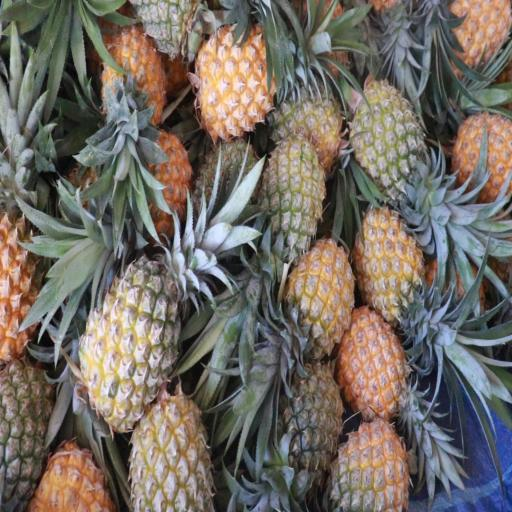------------------------------: (80, 256, 177, 421), (131, 395, 212, 512), (272, 76, 344, 163)
Pineapple - v8 v1: (194, 29, 280, 134), (0, 198, 54, 353), (356, 206, 429, 320), (340, 309, 410, 421), (286, 243, 351, 350), (100, 22, 165, 126), (35, 437, 110, 512), (140, 138, 196, 237), (444, 0, 512, 81), (452, 108, 512, 197)
